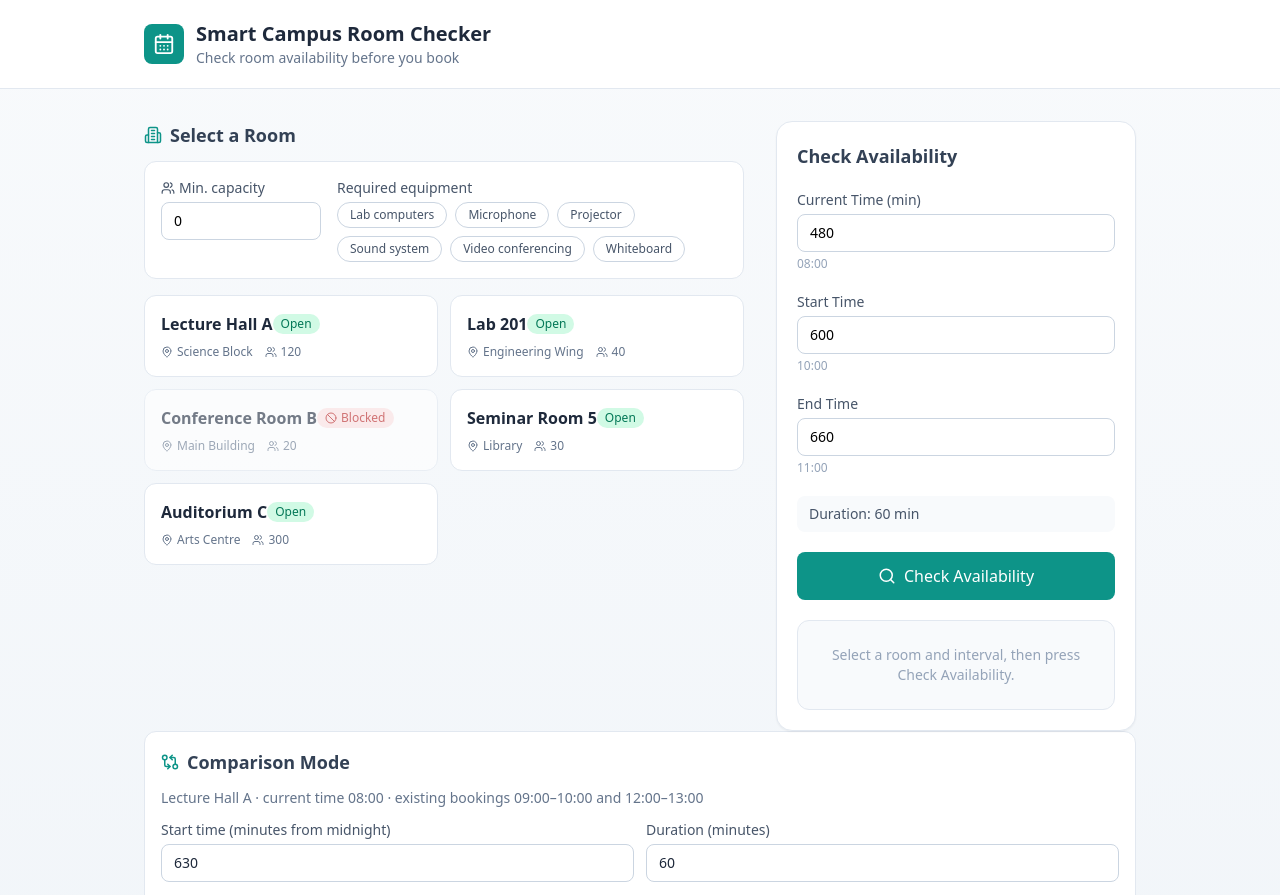
Test: ExplainSection through App › produces a labeled 2-sentence explanation below the verdict
Click the button "Lecture Hall A Open Science Block 120" at (291, 336), box [144,295,438,377]
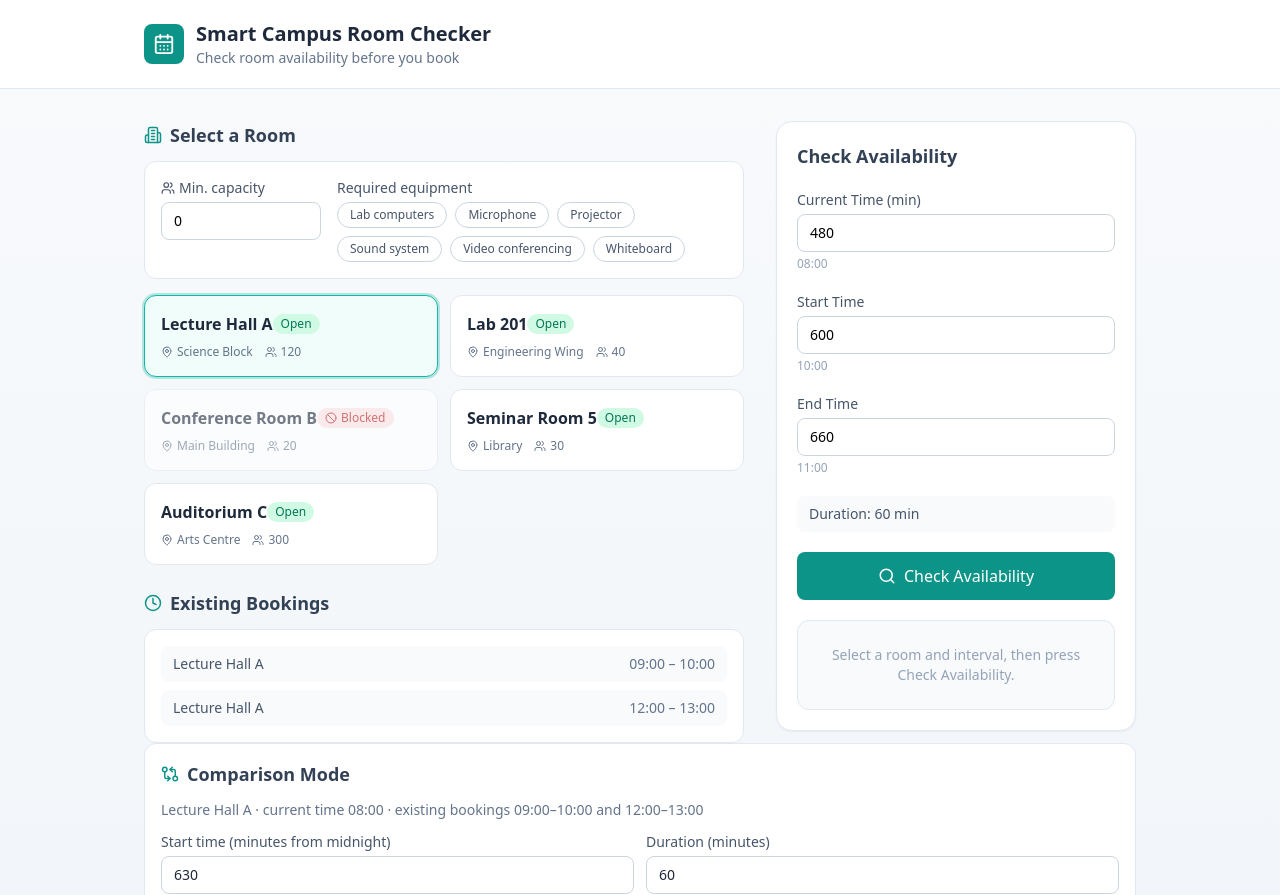
Click the button "Check Availability" at (956, 576), box [797,552,1115,600]
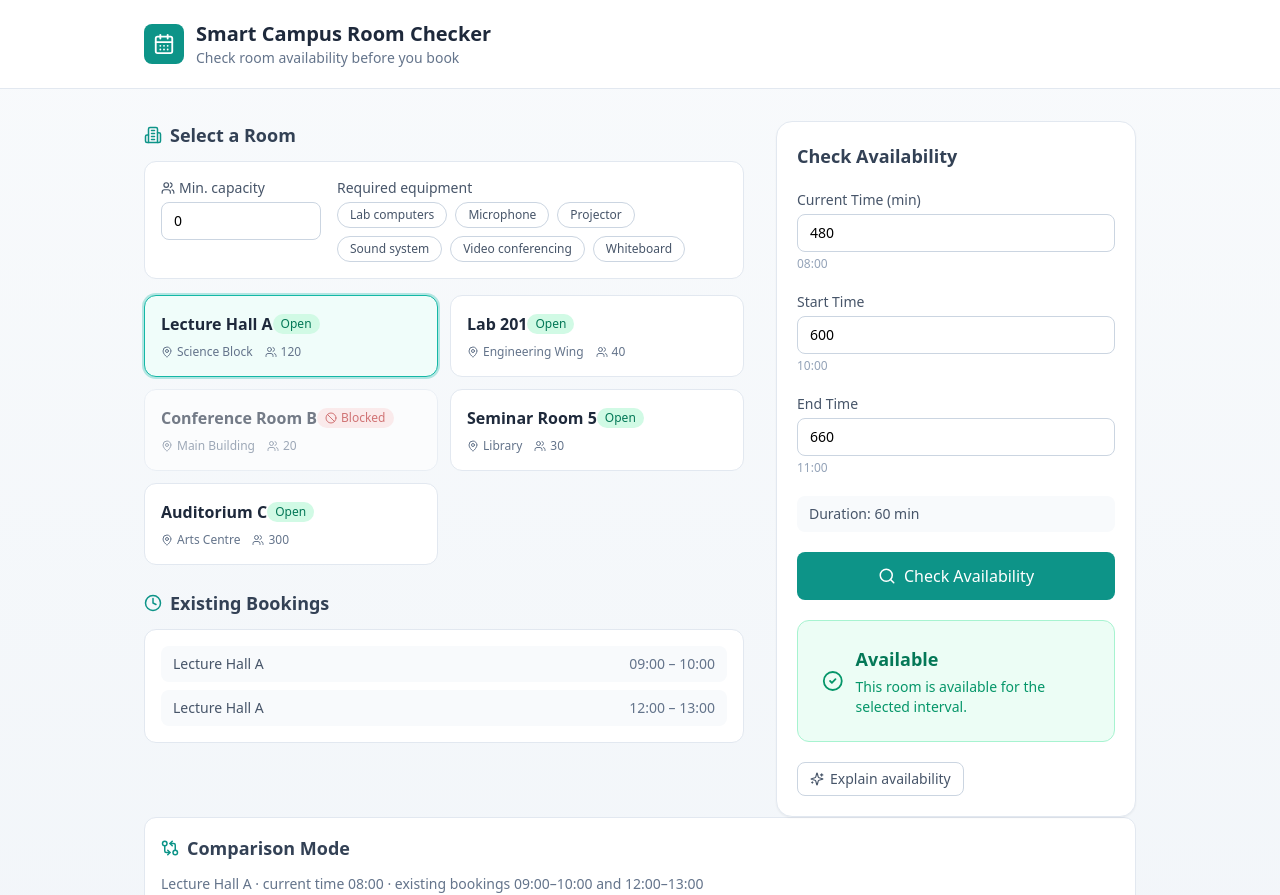
Expected: the text "Available" is shown, [856,647,938,671]
Click the button "Explain availability" at (880, 779), box [797,762,964,796]
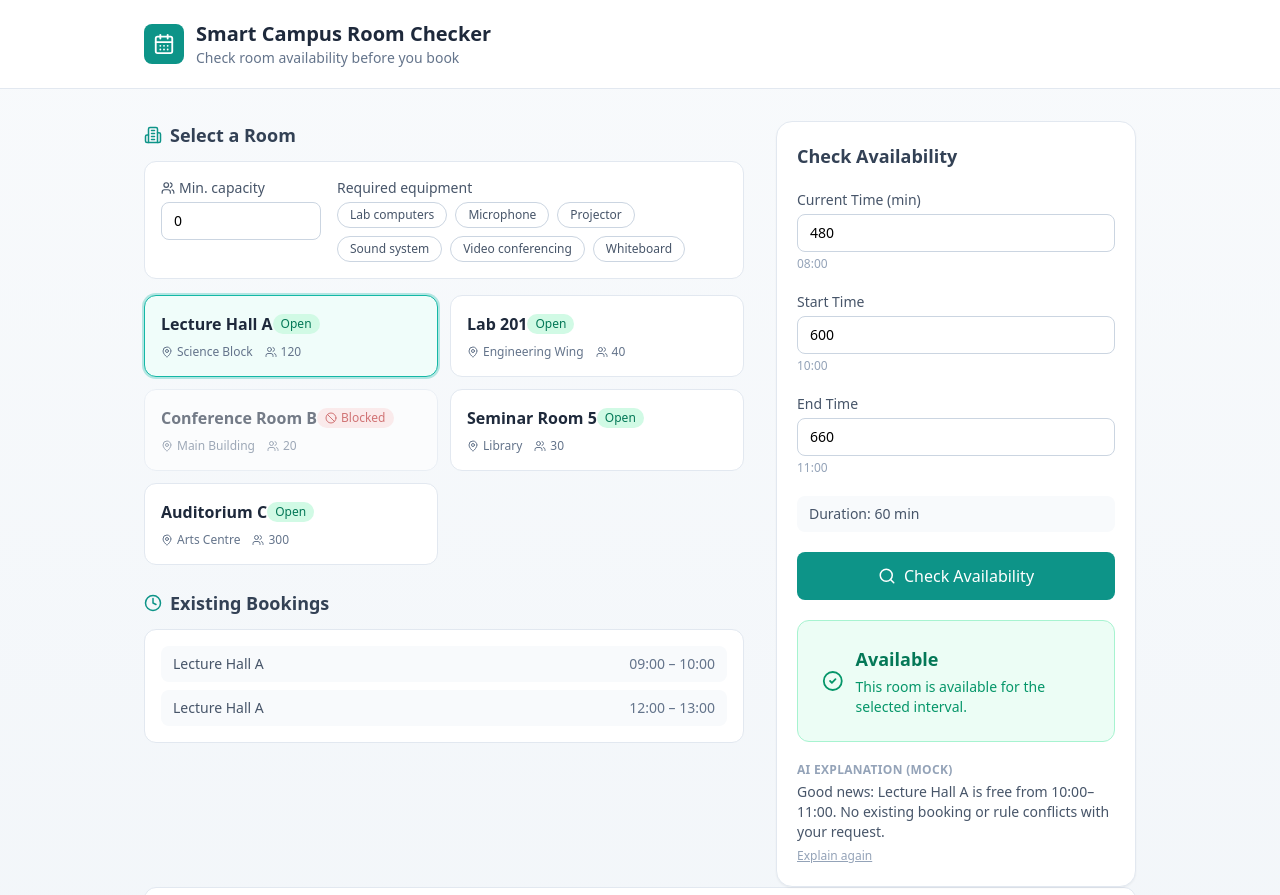
Expected: the text "AI explanation (mock)" is shown, [797,761,952,778]
